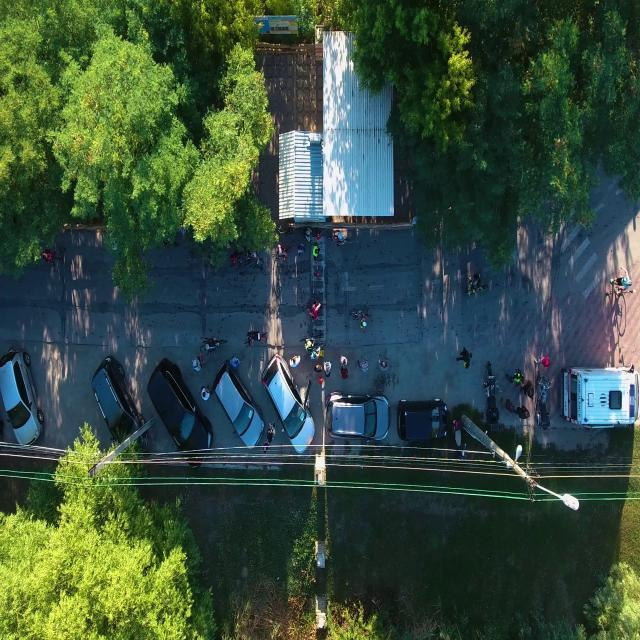vehicle: (147, 359, 212, 456), (560, 362, 640, 430), (260, 355, 315, 450), (91, 356, 142, 444), (0, 347, 44, 449), (213, 363, 264, 449), (325, 392, 390, 442), (397, 398, 448, 443), (482, 356, 502, 434), (536, 370, 552, 430), (609, 268, 631, 292), (452, 418, 463, 458), (42, 250, 63, 268), (455, 346, 472, 368), (520, 380, 535, 400), (308, 302, 322, 323), (191, 354, 205, 372), (506, 371, 525, 384), (535, 354, 551, 368), (516, 406, 532, 420), (248, 332, 266, 344), (200, 386, 213, 402), (206, 337, 218, 354), (500, 399, 514, 413), (378, 357, 388, 374), (473, 272, 481, 292), (230, 354, 242, 367), (358, 358, 369, 372), (278, 244, 288, 259), (289, 355, 300, 368), (324, 361, 332, 378), (267, 426, 274, 445), (296, 243, 306, 256), (334, 228, 344, 241), (304, 339, 316, 349), (312, 246, 320, 261), (360, 316, 368, 331), (304, 227, 312, 241), (311, 348, 320, 360), (262, 442, 270, 454), (339, 356, 347, 368), (314, 364, 323, 374), (340, 370, 348, 380)
